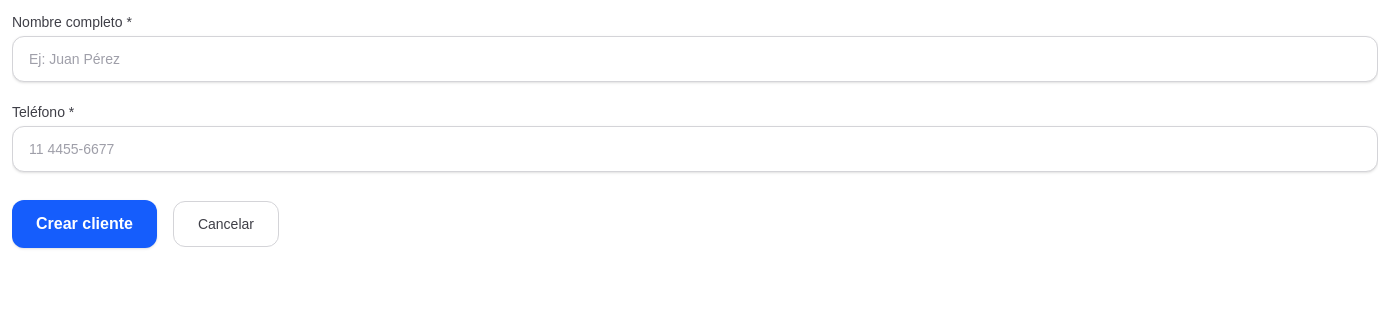
Test: CustomerForm › create mode › shows validation errors when submitted empty
Click the button "Crear cliente" at (84,224), box [12,200,157,248]
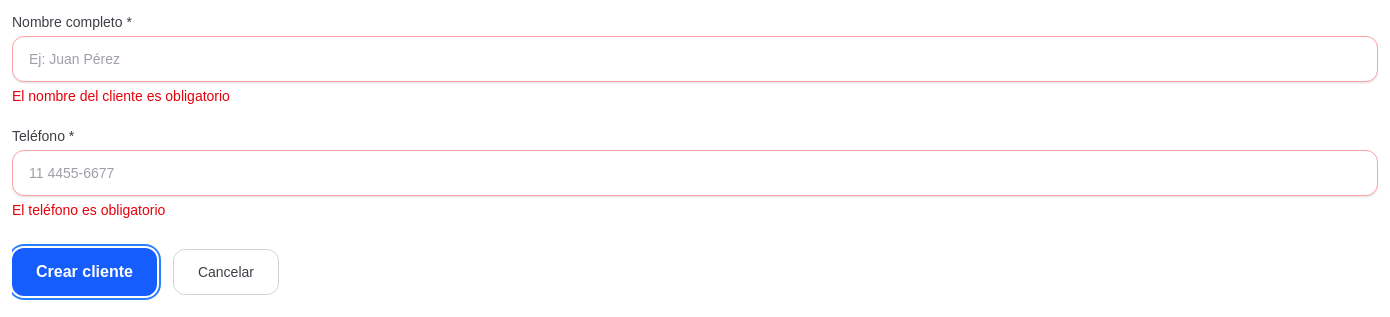
Now the text "El nombre del cliente es obligatorio" is shown, box [12,88,230,104]
Now the text "El teléfono es obligatorio" is shown, box [12,202,165,218]
